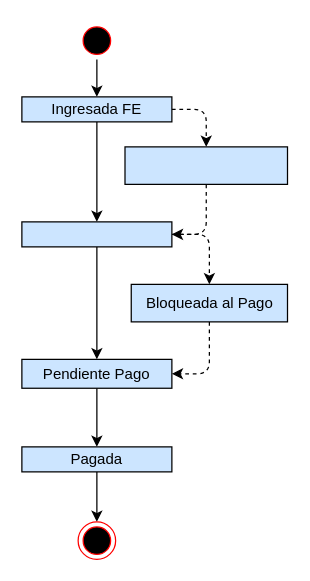
Image size: 310x581. Some labels were removed from this diagram. The shapes that lost their labels are listed below. From the top down, each one's box as (x1, y1, x2, y2) in pixels, then its label:
(124, 146, 288, 184): Ingresada Preliminar
(21, 221, 172, 247): Contabilizada
